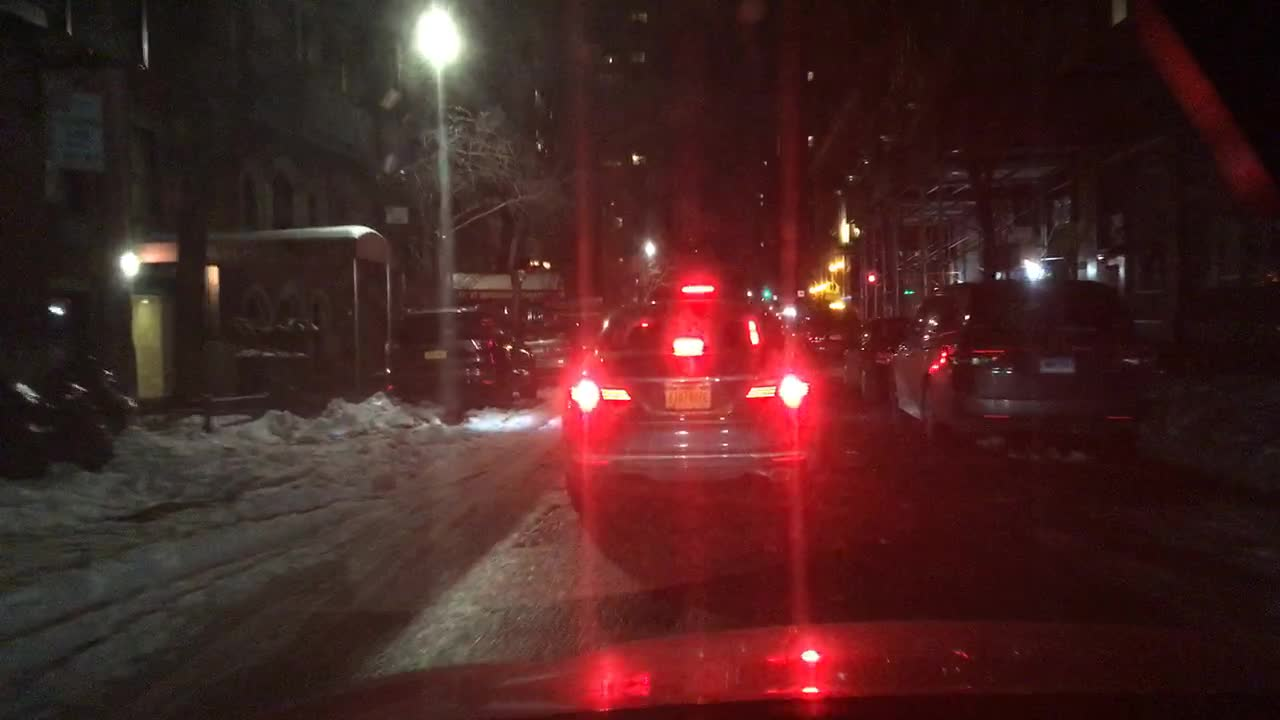car: (561, 284, 818, 507), (884, 277, 1149, 471), (384, 307, 538, 407), (838, 308, 916, 398), (803, 307, 860, 365), (520, 323, 582, 374), (550, 308, 604, 356)
motor: (0, 363, 113, 479), (27, 351, 137, 435)
traffic light: (865, 268, 874, 293), (760, 278, 769, 296)
traffic sign: (50, 94, 101, 169)
